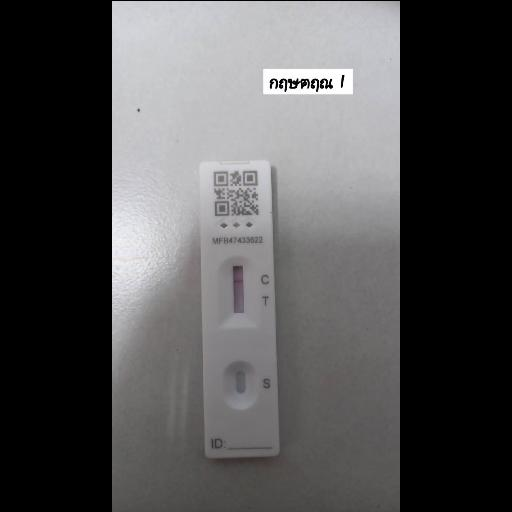Neg: (198, 158, 276, 458)
